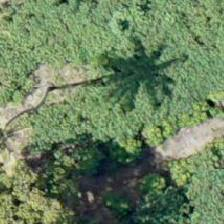Kelapa_Sawit: (130, 19, 220, 109)
